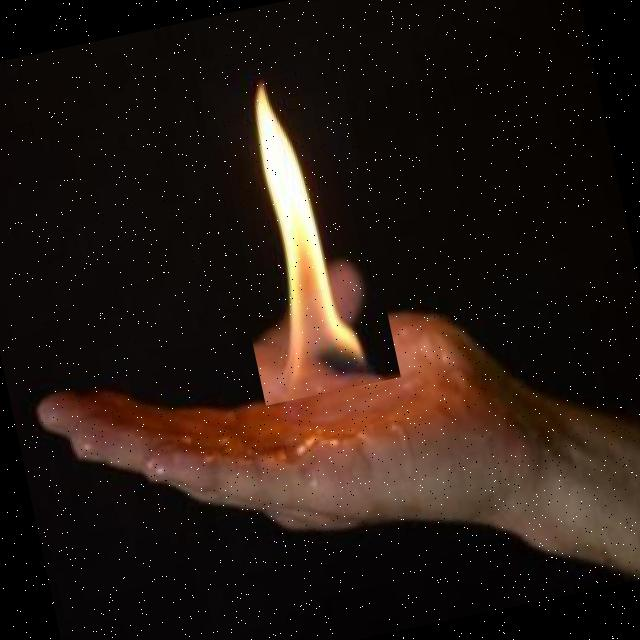fire: (194, 42, 400, 405)
